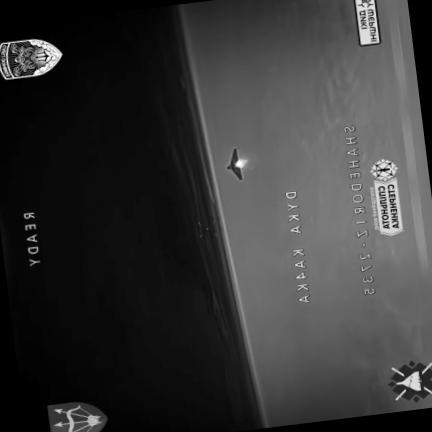Shahed: (227, 148, 243, 180)
